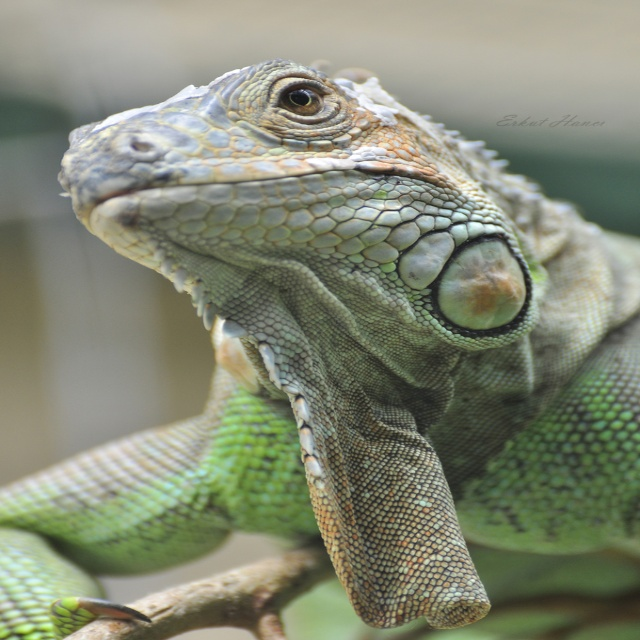Lizard: (3, 62, 636, 640)
